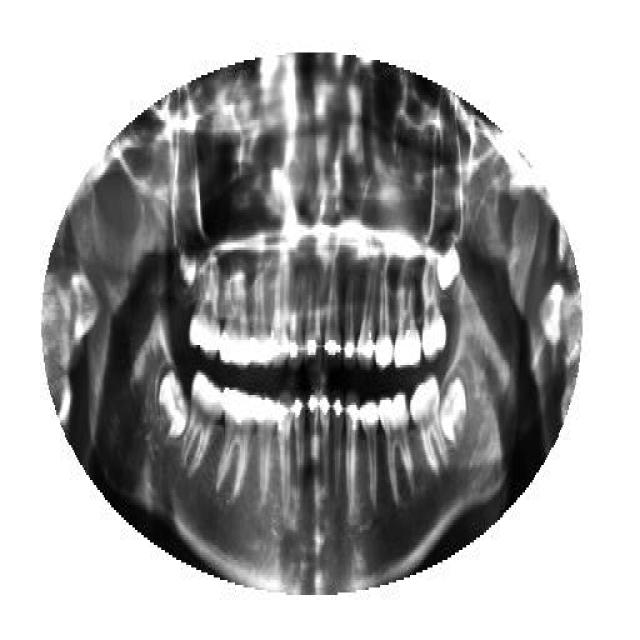Impacted Tooth: (155, 362, 191, 442), (438, 368, 472, 452)
